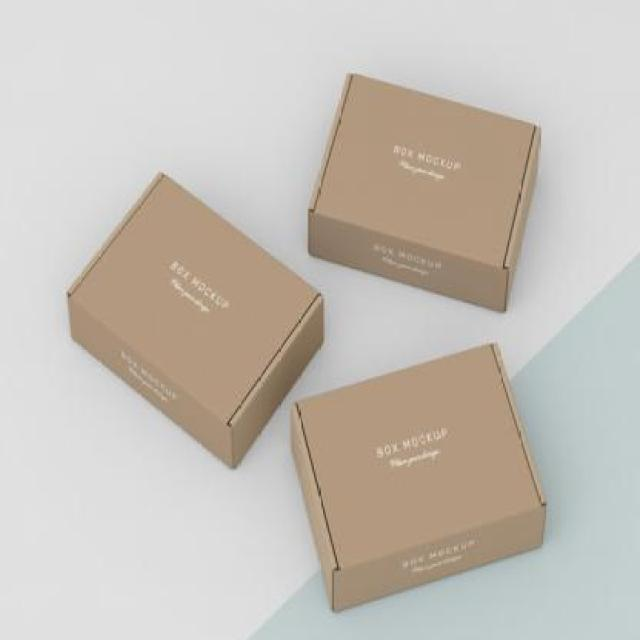box: (58, 167, 344, 491), (279, 334, 566, 640), (300, 25, 554, 343)
